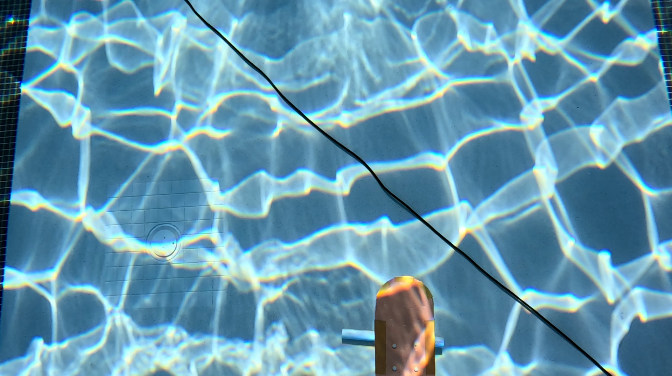pathmarker: (374, 275, 434, 375)
